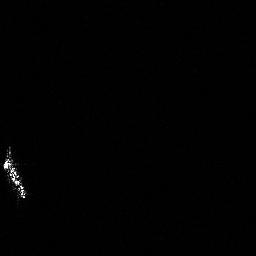ship: (1, 145, 29, 200)
